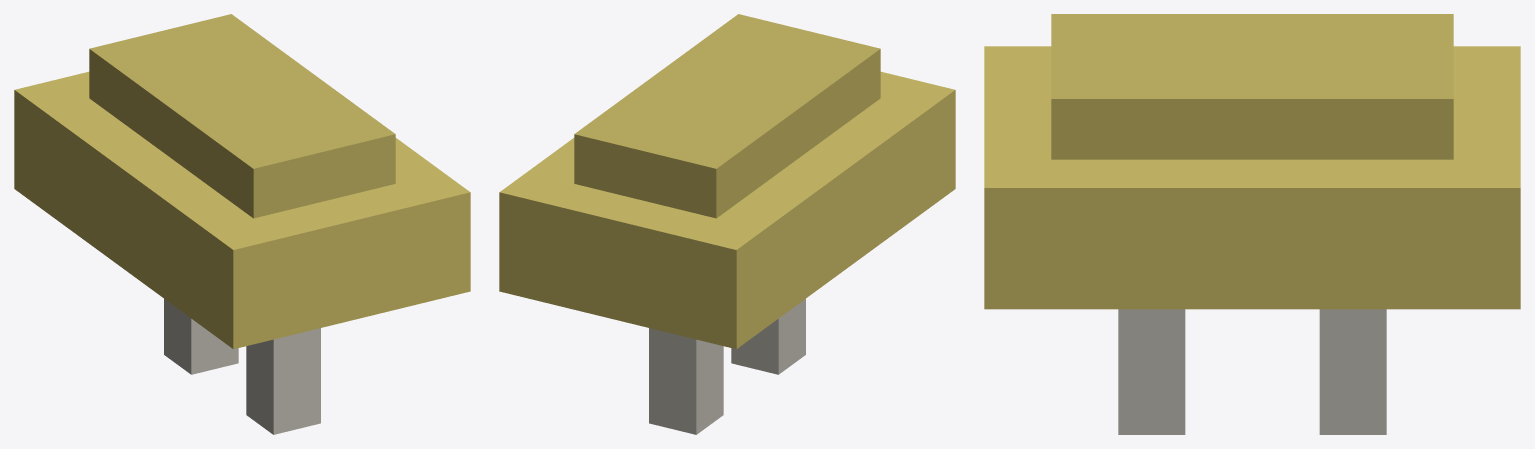
Rendered from rebozuelo_04.glb.
The picture shows the model from 3 angles, left to right: view 1: azimuth 30°, elevation 25°; view 2: azimuth 150°, elevation 25°; view 3: azimuth 270°, elevation 25°; orthographic projection. The views are drawn at different scales.
Parts seen in each view (by area): view 1: rebozuelo_04; view 2: rebozuelo_04; view 3: rebozuelo_04.
Part boxes in pixels (x1,y1,x2,y2): rebozuelo_04: (14,14,470,434); rebozuelo_04: (499,14,955,434); rebozuelo_04: (984,14,1520,434).
Size of the model in its own units: 0.5 by 0.6 by 0.8.
